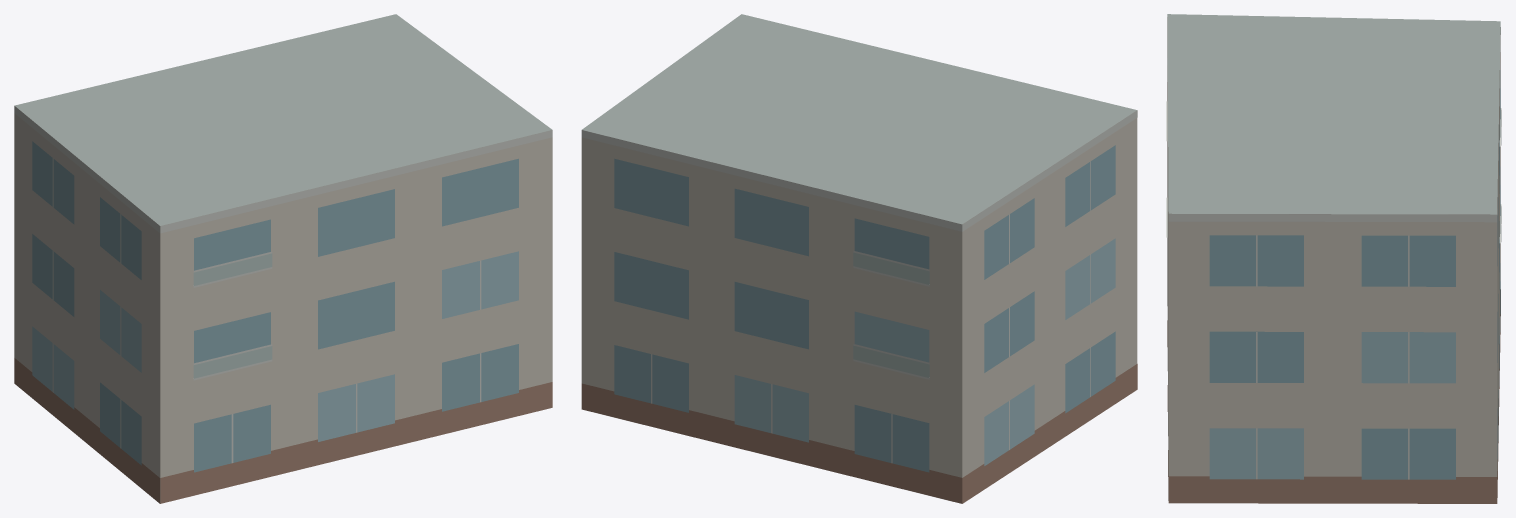
Rendered from survey-upis-32705402.glb.
3 renders of one model, left to right at view 1: azimuth 30°, elevation 25°; view 2: azimuth 150°, elevation 25°; view 3: azimuth 270°, elevation 25°, orthographic. The views are drawn at different scales.
Visible parts, largest first — view 1: survey-upis-32705402.tmp; view 2: survey-upis-32705402.tmp; view 3: survey-upis-32705402.tmp.
Boxes of the visible parts, <box> form: survey-upis-32705402.tmp: <box>14,14,552,503</box>; survey-upis-32705402.tmp: <box>581,14,1137,503</box>; survey-upis-32705402.tmp: <box>1166,14,1501,503</box>.
Size of the model in its own units: 13.6 by 9.15 by 9.62.
